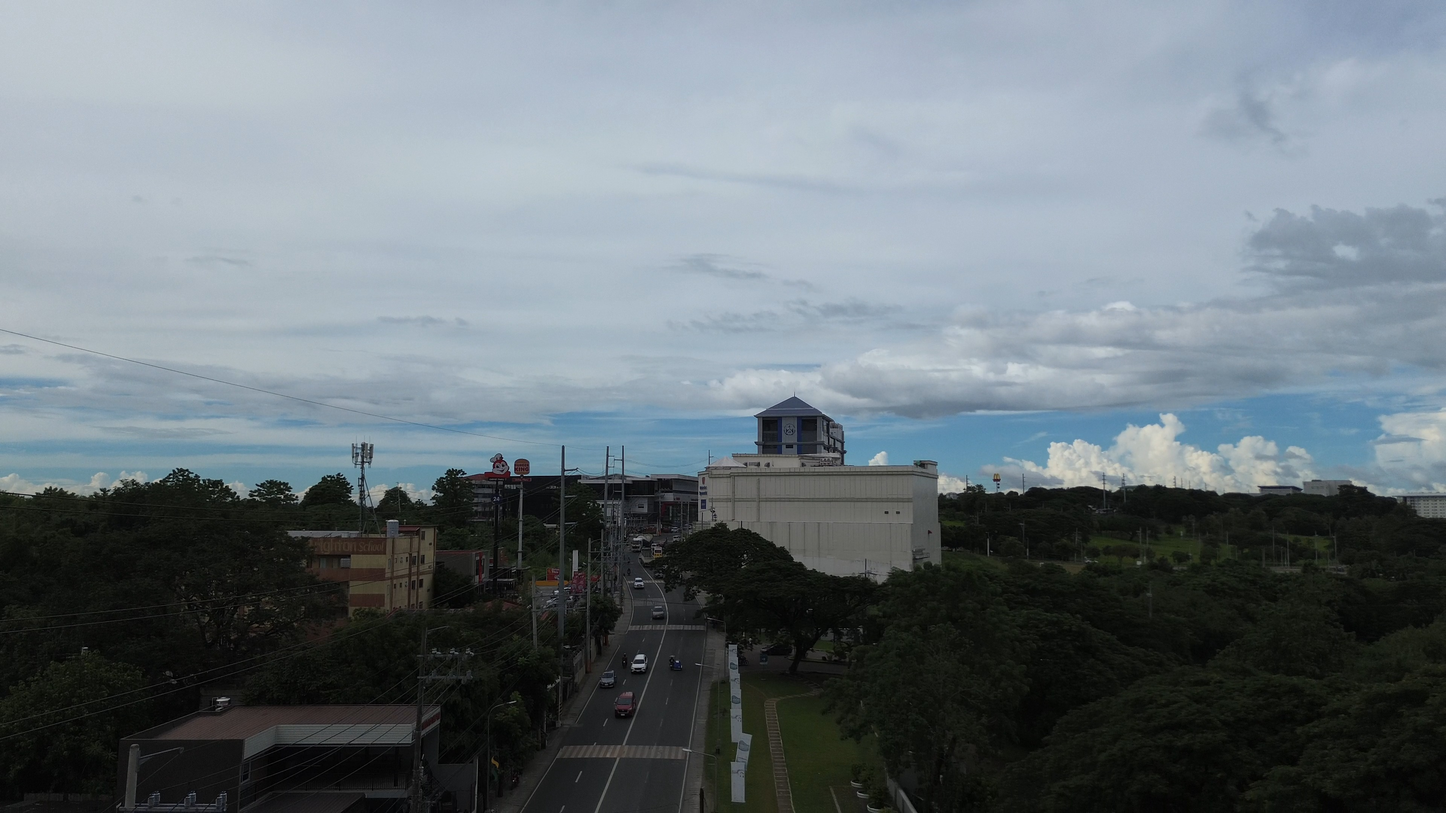car: (615, 692, 635, 717), (630, 653, 648, 673), (599, 671, 615, 688), (652, 605, 665, 619), (633, 576, 644, 589)
vehicle: (763, 642, 791, 655), (670, 656, 682, 670)
